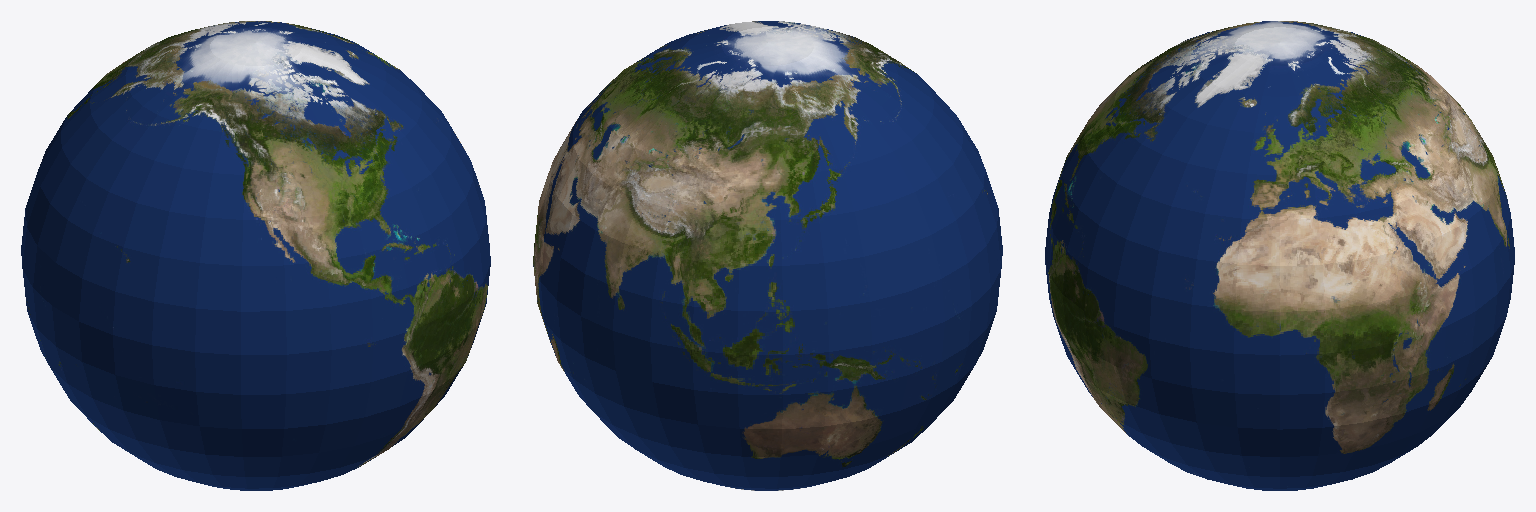
3 renders of one model, left to right at view 1: azimuth 30°, elevation 25°; view 2: azimuth 150°, elevation 25°; view 3: azimuth 270°, elevation 25°, orthographic.
Visible parts, largest first — view 1: Sphere; view 2: Sphere; view 3: Sphere.
Part boxes in pixels (x1,y1,x2,y2): Sphere: (21,21,490,490); Sphere: (533,21,1002,490); Sphere: (1045,21,1514,490).
Size of the model in its own units: 2 by 2 by 2.
1 materials, 1 textured.